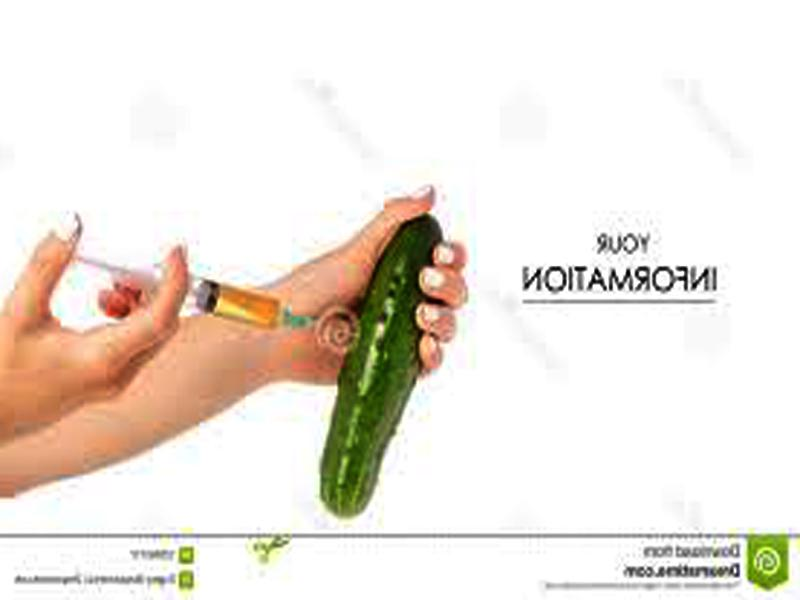Cucumber: (320, 214, 441, 518)
